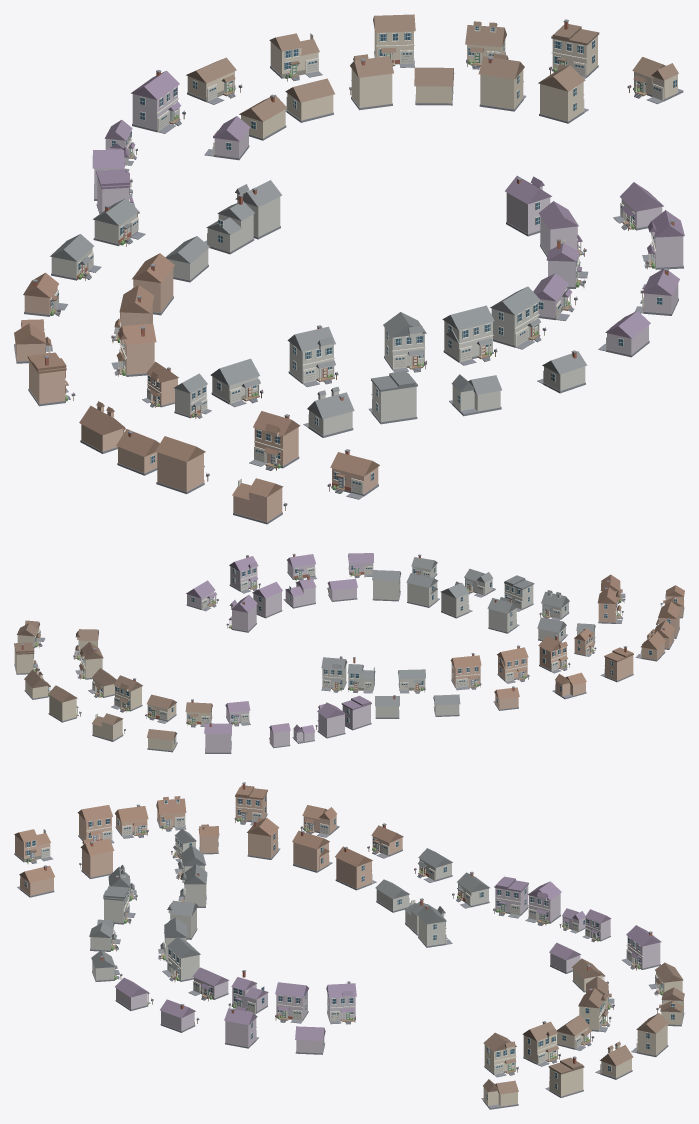
The model's file is creekside-bend.glb.
3 renders of one model, top to bottom at view 1: azimuth 30°, elevation 25°; view 2: azimuth 150°, elevation 25°; view 3: azimuth 270°, elevation 25°, orthographic. The views are drawn at different scales.
Parts seen in each view (by area): view 1: suburban_72_side_garage_two.002, suburban_89_double_garage.001, suburban_74_double_garage.001, suburban_68_suburban_farmhouse.002, suburban_49_center_colonial.002, suburban_50_garage_colonial.002, suburban_08_suburban_farmhouse.001, suburban_10_front_gable.001, suburban_04_center_colonial.001, suburban_70_front_gable.002, suburban_69_modern_suburban.002, suburban_09_modern_suburban.001 (+41 smaller); view 2: suburban_59_double_garage.002, suburban_57_side_garage_two.002, suburban_72_side_garage_two.002, suburban_68_suburban_farmhouse.002, suburban_55_front_gable.002, suburban_79_center_colonial.001, suburban_04_center_colonial.001, suburban_54_modern_suburban.002, suburban_74_double_garage.001, suburban_05_garage_colonial.001, suburban_83_suburban_farmhouse.001, suburban_70_front_gable.002 (+41 smaller); view 3: suburban_08_suburban_farmhouse.001, suburban_89_double_garage.001, suburban_57_side_garage_two.002, suburban_59_double_garage.002, suburban_80_garage_colonial.001, suburban_84_modern_suburban.001, suburban_09_modern_suburban.001, suburban_10_front_gable.001, suburban_74_double_garage.001, suburban_85_front_gable.001, suburban_79_center_colonial.001, suburban_49_center_colonial.002 (+37 smaller).
Part boxes in pixels (left/top/right/bottom): suburban_72_side_garage_two.002: left=442, top=305, right=497, bottom=365; suburban_89_double_garage.001: left=131, top=70, right=185, bottom=133; suburban_74_double_garage.001: left=490, top=286, right=546, bottom=349; suburban_68_suburban_farmhouse.002: left=287, top=325, right=338, bottom=387; suburban_49_center_colonial.002: left=249, top=411, right=300, bottom=470; suburban_50_garage_colonial.002: left=155, top=436, right=209, bottom=494; suburban_08_suburban_farmhouse.001: left=478, top=53, right=526, bottom=111; suburban_10_front_gable.001: left=538, top=64, right=588, bottom=123; suburban_04_center_colonial.001: left=349, top=54, right=393, bottom=110; suburban_70_front_gable.002: left=383, top=312, right=426, bottom=372; suburban_69_modern_suburban.002: left=369, top=371, right=417, bottom=424; suburban_09_modern_suburban.001: left=549, top=19, right=599, bottom=79; suburban_59_double_garage.002: left=450, top=653, right=481, bottom=690; suburban_57_side_garage_two.002: left=497, top=645, right=529, bottom=683; suburban_72_side_garage_two.002: left=406, top=573, right=439, bottom=607; suburban_68_suburban_farmhouse.002: left=487, top=597, right=519, bottom=633; suburban_55_front_gable.002: left=538, top=635, right=570, bottom=673; suburban_79_center_colonial.001: left=229, top=555, right=260, bottom=593; suburban_04_center_colonial.001: left=111, top=675, right=142, bottom=712; suburban_54_modern_suburban.002: left=600, top=646, right=633, bottom=682; suburban_74_double_garage.001: left=372, top=570, right=401, bottom=601; suburban_05_garage_colonial.001: left=48, top=685, right=81, bottom=722; suburban_83_suburban_farmhouse.001: left=226, top=595, right=257, bottom=632; suburban_70_front_gable.002: left=440, top=581, right=472, bottom=618; suburban_08_suburban_farmhouse.001: left=522, top=1021, right=560, bottom=1066; suburban_89_double_garage.001: left=622, top=925, right=661, bottom=970; suburban_57_side_garage_two.002: left=292, top=830, right=332, bottom=872; suburban_59_double_garage.002: left=335, top=846, right=376, bottom=890; suburban_80_garage_colonial.001: left=275, top=982, right=308, bottom=1023; suburban_84_modern_suburban.001: left=493, top=876, right=528, bottom=918; suburban_09_modern_suburban.001: left=545, top=1056, right=584, bottom=1097; suburban_10_front_gable.001: left=483, top=1032, right=518, bottom=1077; suburban_74_double_garage.001: left=162, top=937, right=200, bottom=981; suburban_85_front_gable.001: left=525, top=881, right=561, bottom=925; suburban_79_center_colonial.001: left=224, top=1006, right=258, bottom=1048; suburban_49_center_colonial.002: left=79, top=838, right=114, bottom=878.
Bounding box in the file's own units: 153 × 12.34 × 149.
